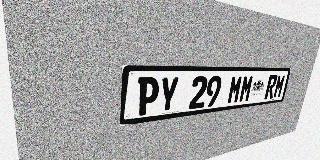2: (189, 76, 208, 109)
9: (204, 76, 223, 107)
M: (227, 75, 243, 104), (238, 75, 254, 103), (273, 75, 286, 98)
P: (136, 77, 160, 116)
R: (264, 75, 278, 99)
Y: (157, 76, 179, 113)
